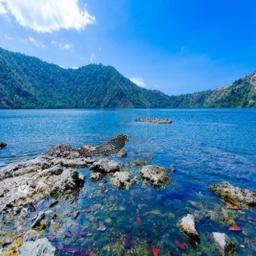Crow: (82, 134, 129, 157)
